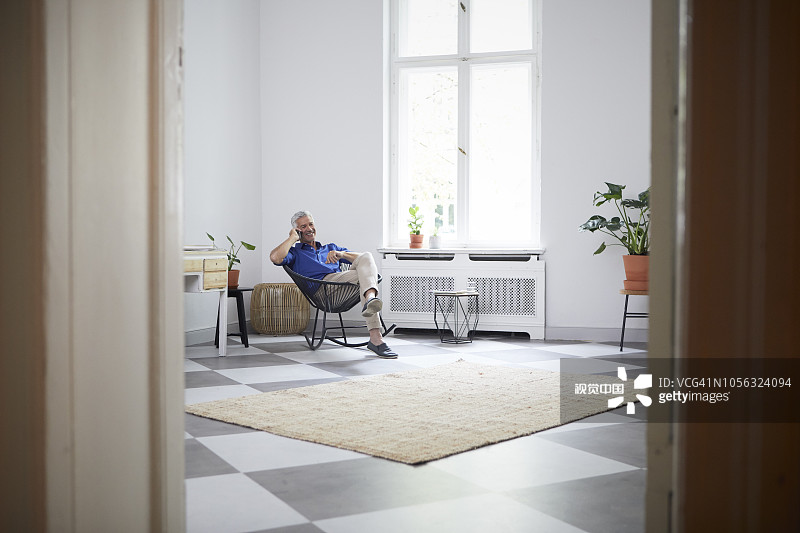calling: (270, 219, 312, 247)
no-phone: (321, 244, 352, 268)
